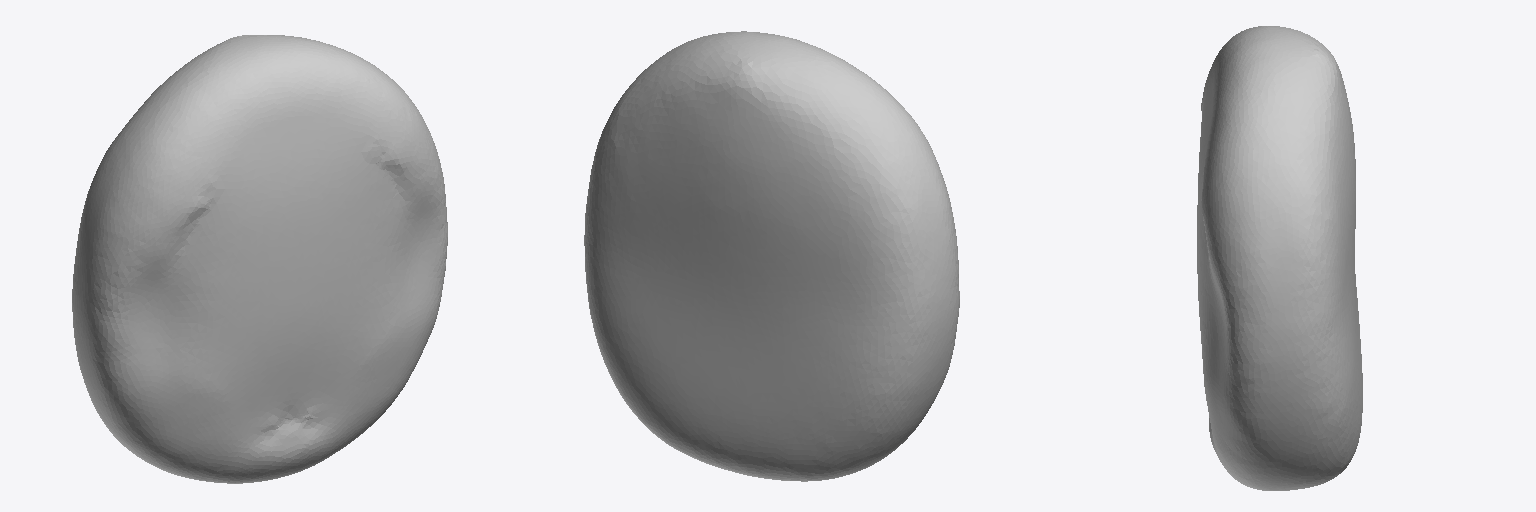
Rendered from back3.obj.
3 renders of one model, left to right at view 1: azimuth 30°, elevation 25°; view 2: azimuth 150°, elevation 25°; view 3: azimuth 270°, elevation 25°, orthographic.
Visible parts, largest first — view 1: Group12609; view 2: Group12609; view 3: Group12609.
Part boxes in pixels (x1,y1,x2,y2): Group12609: (72,35,447,483); Group12609: (584,31,959,481); Group12609: (1197,26,1362,490).
Bounding box in the file's own units: 0.3375 × 0.3871 × 0.1371.